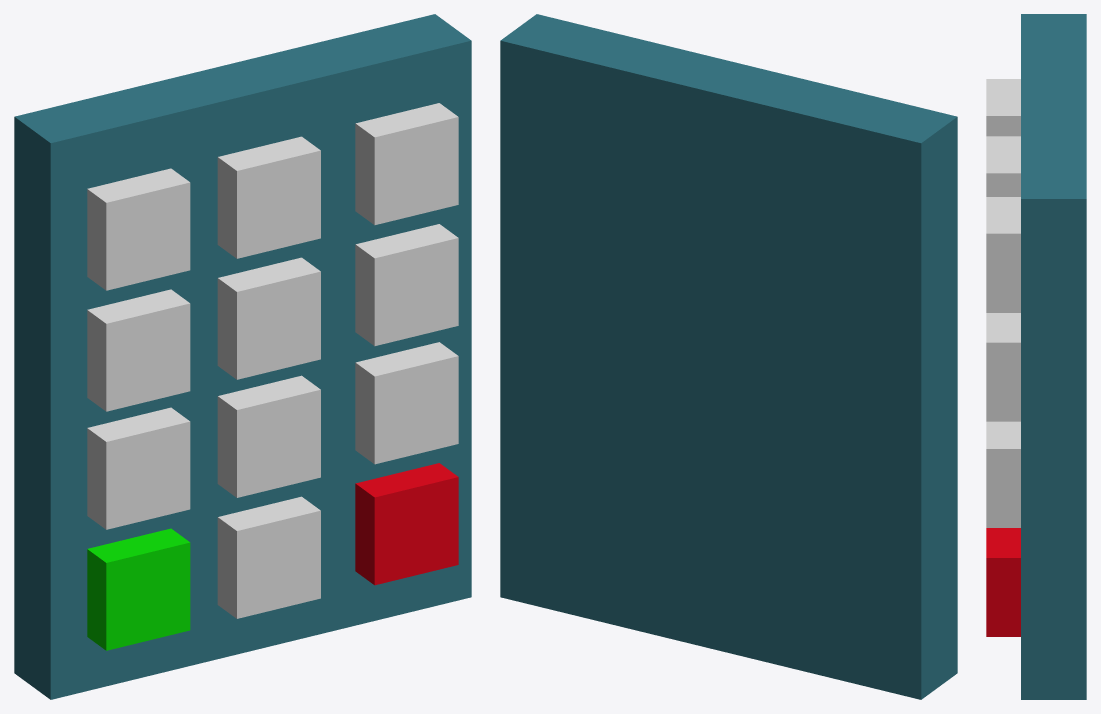
Rendered from Code lock Test.fbx.
3 renders of one model, left to right at view 1: azimuth 30°, elevation 25°; view 2: azimuth 150°, elevation 25°; view 3: azimuth 270°, elevation 25°, orthographic. The views are drawn at different scales.
Visible parts, largest first — view 1: Cube, Cube.002, Cube.005, Cube.009, Cube.010, Cube.001, Cube.004, Cube.007, Cube.006, Cube.012, Cube.003, Cube.008 (+1 smaller); view 2: Cube; view 3: Cube, Cube.003, Cube.004, Cube.009, Cube.010, Cube.002, Cube.001.
Boxes of the visible parts, x1,y1,x2,y2 form: Cube: [14, 14, 471, 699]; Cube.002: [217, 136, 320, 258]; Cube.005: [217, 257, 320, 379]; Cube.009: [355, 463, 458, 585]; Cube.010: [355, 342, 458, 464]; Cube.001: [87, 168, 190, 290]; Cube.004: [355, 224, 458, 346]; Cube.007: [87, 528, 190, 650]; Cube.006: [87, 289, 190, 411]; Cube.012: [87, 407, 190, 529]; Cube.003: [355, 103, 458, 225]; Cube.008: [217, 496, 320, 618]; Cube: [500, 14, 957, 699]; Cube: [1021, 14, 1086, 699]; Cube.003: [986, 197, 1020, 312]; Cube.004: [986, 313, 1020, 421]; Cube.009: [986, 528, 1020, 636]; Cube.010: [986, 421, 1020, 527]; Cube.002: [986, 136, 1020, 196]; Cube.001: [986, 79, 1020, 136].
Size of the model in its own units: 249 by 315 by 57.04.
